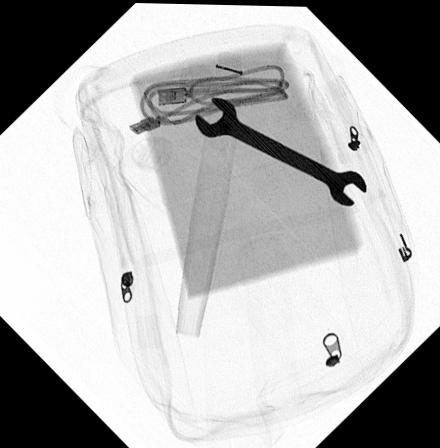Wrench: (192, 92, 367, 203)
